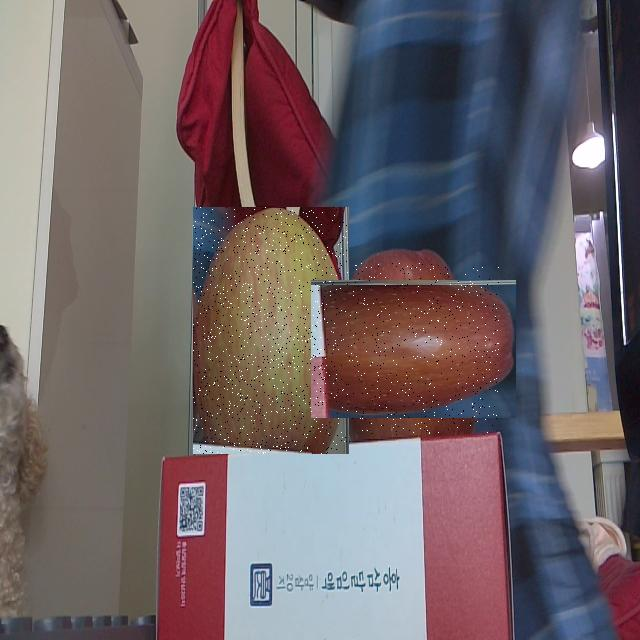apple: (193, 207, 349, 454), (327, 263, 499, 435)
